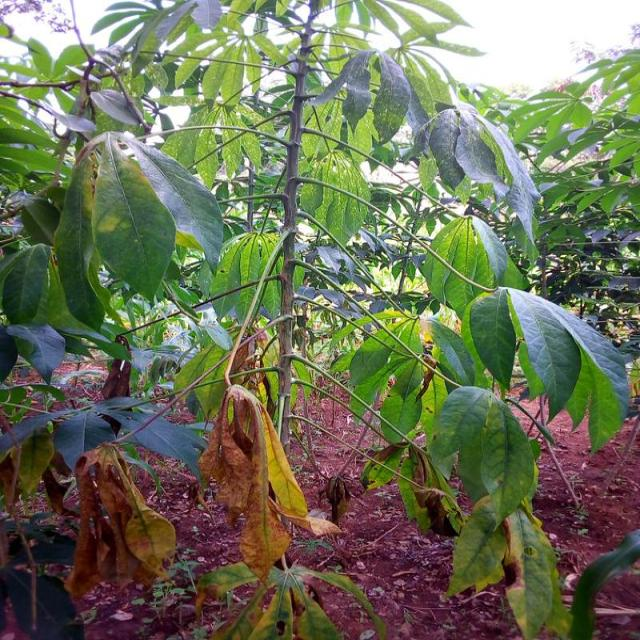cassava leaf: (464, 285, 630, 455), (90, 130, 176, 304), (423, 212, 508, 320)
